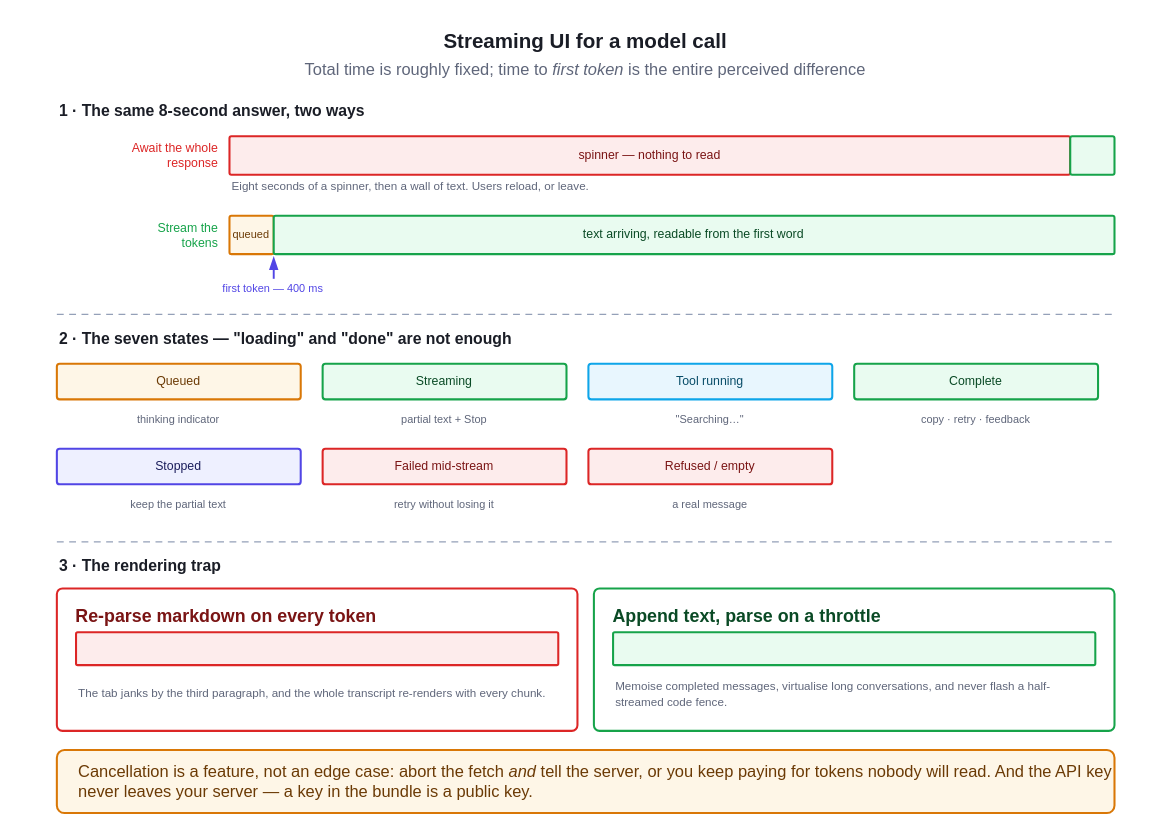
The diagram is 1170 pixels wide and 837 high, and some of its shapes have lost their labels. The centre of each missing label's shape, as x and y in pixels:
"O(n²) — token 900 re-parses 900 tokens" goes at [316,648].
"plain text while streaming · parse every ~100 ms" goes at [853,648].
